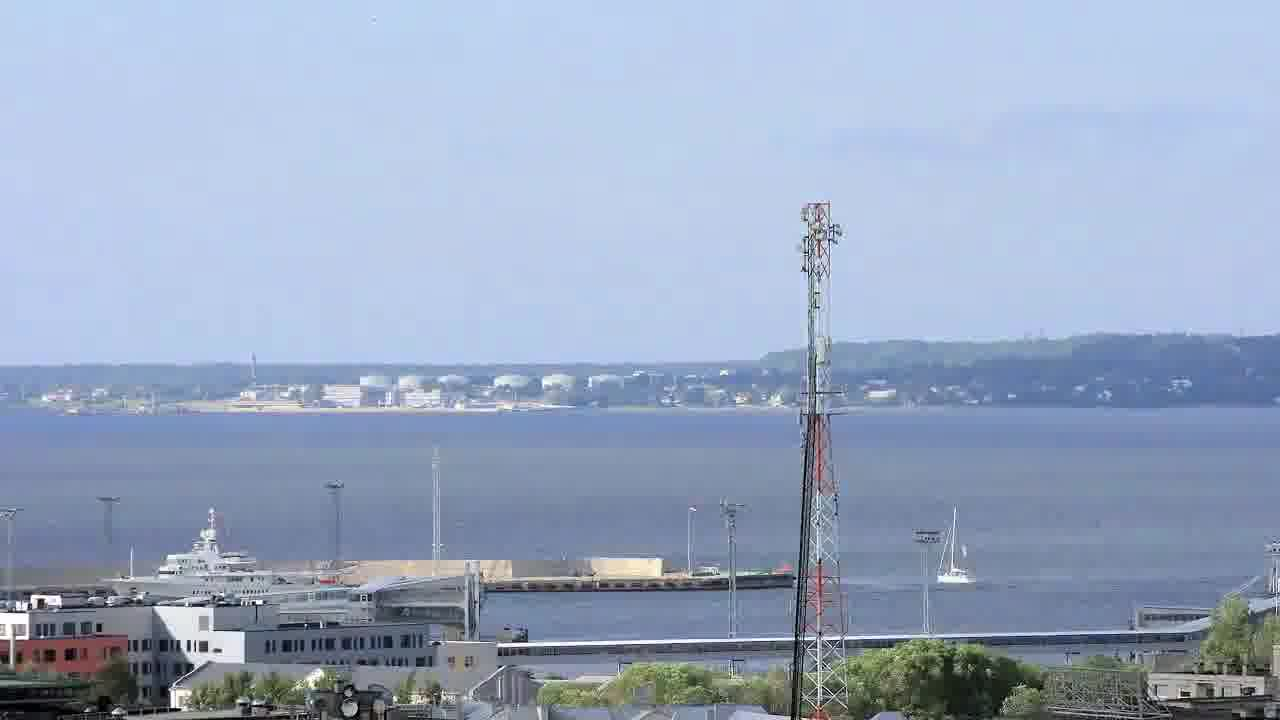type-0: (927, 516, 987, 603)
type-3: (88, 507, 346, 605)
